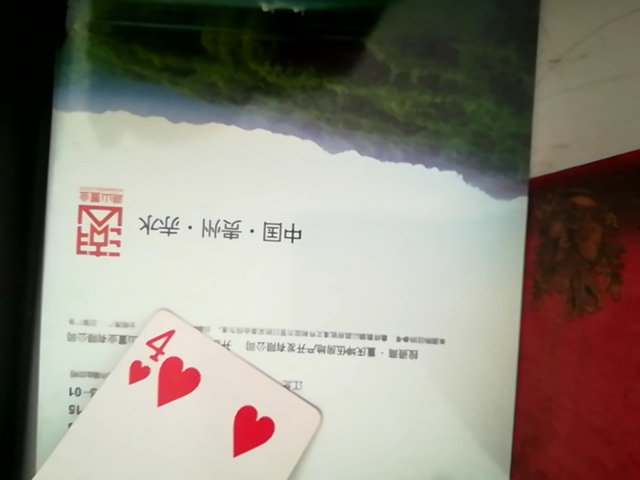hx 5: (30, 319, 330, 480)
